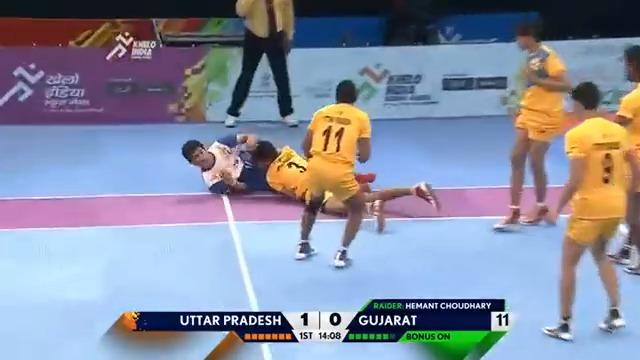Player: (249, 77, 440, 270), (539, 79, 633, 342), (492, 21, 572, 232), (293, 77, 374, 269), (606, 43, 639, 274)
Raider: (181, 131, 278, 195)
referee: (223, 0, 300, 128)
